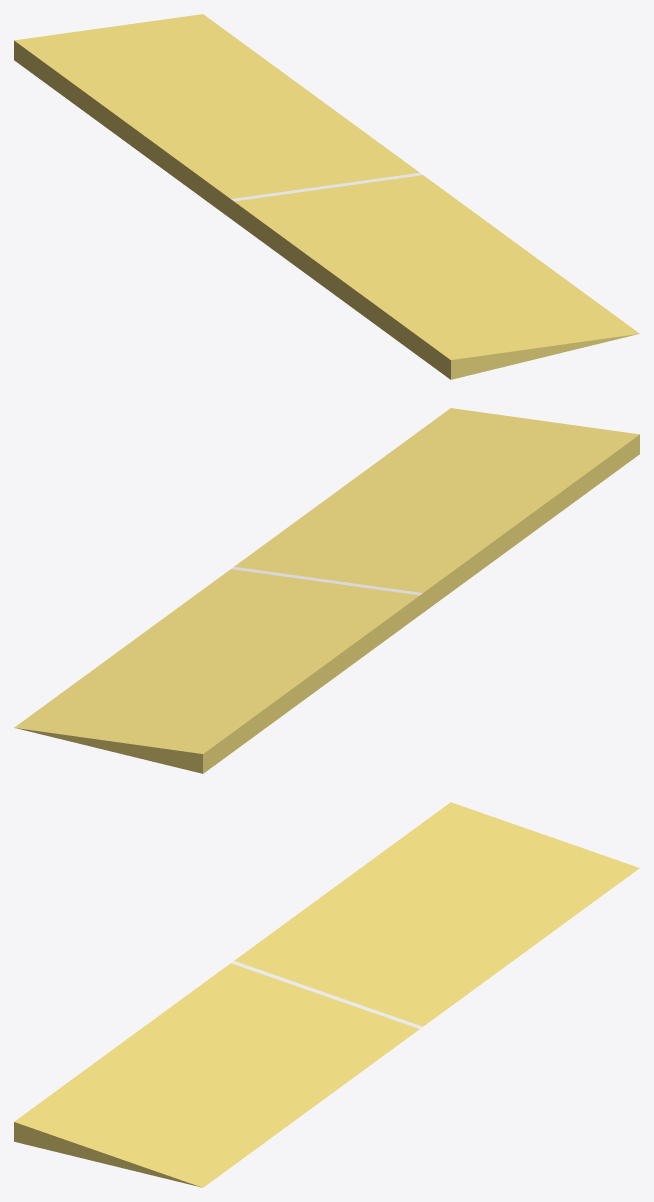
File: slope3.dae
The picture shows the model from 3 angles, top to bottom: view 1: azimuth 30°, elevation 25°; view 2: azimuth 150°, elevation 25°; view 3: azimuth 330°, elevation 25°; orthographic projection.
Visible parts, largest first — view 1: instance_0, instance_0.001; view 2: instance_0, instance_0.001; view 3: instance_0, instance_0.001.
Part boxes in pixels (x1,y1,x2,y2): instance_0: (14,14,639,379); instance_0.001: (231,172,422,201); instance_0: (14,408,639,773); instance_0.001: (231,566,422,595); instance_0: (14,802,639,1187); instance_0.001: (231,961,422,1028).
Size of the model in its own units: 1 by 4 by 0.1.
